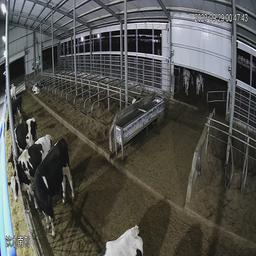cow: (31, 137, 76, 233), (5, 132, 57, 203), (95, 207, 145, 256), (6, 114, 39, 147), (5, 95, 27, 120), (30, 77, 49, 97), (183, 65, 193, 97), (195, 73, 204, 98)
